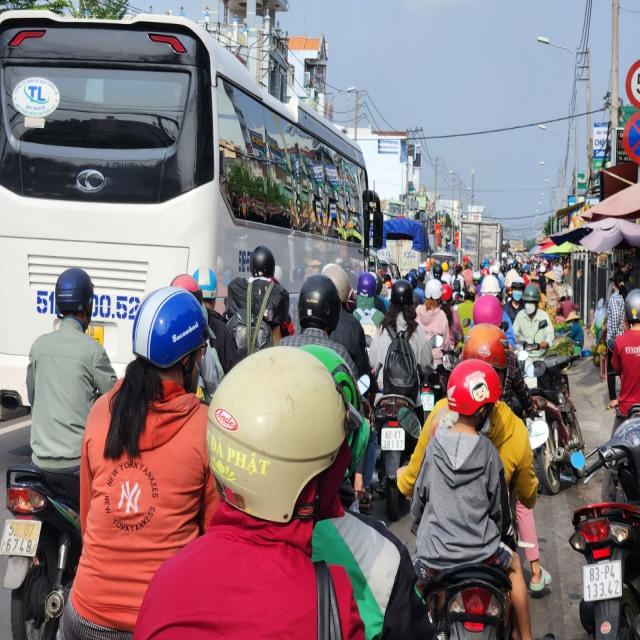helmet: (206, 344, 364, 521), (131, 286, 216, 367), (447, 358, 506, 416), (297, 273, 341, 329)
